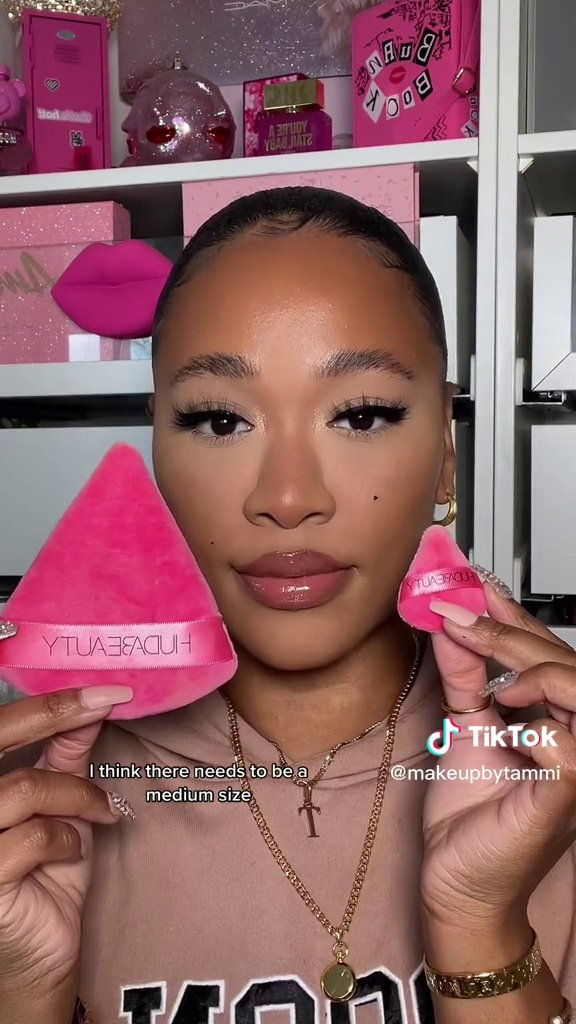train' :'yolo_data/train/images',: (1, 437, 250, 732), (386, 515, 492, 642)
